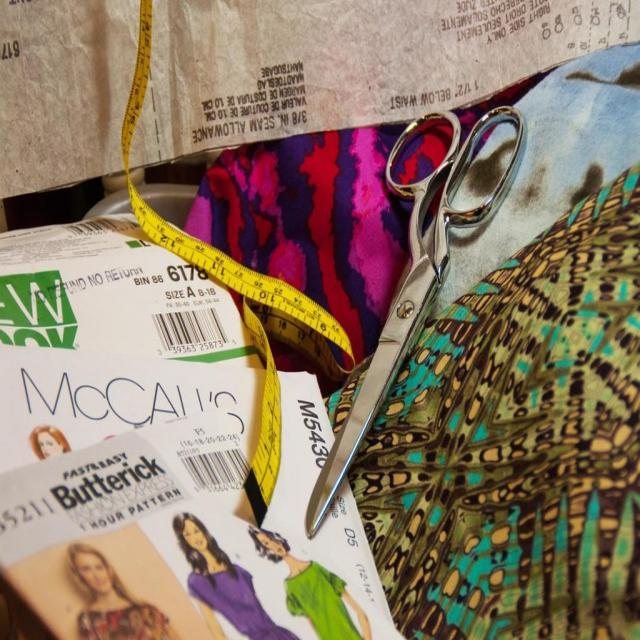scissor: (302, 106, 526, 543)
